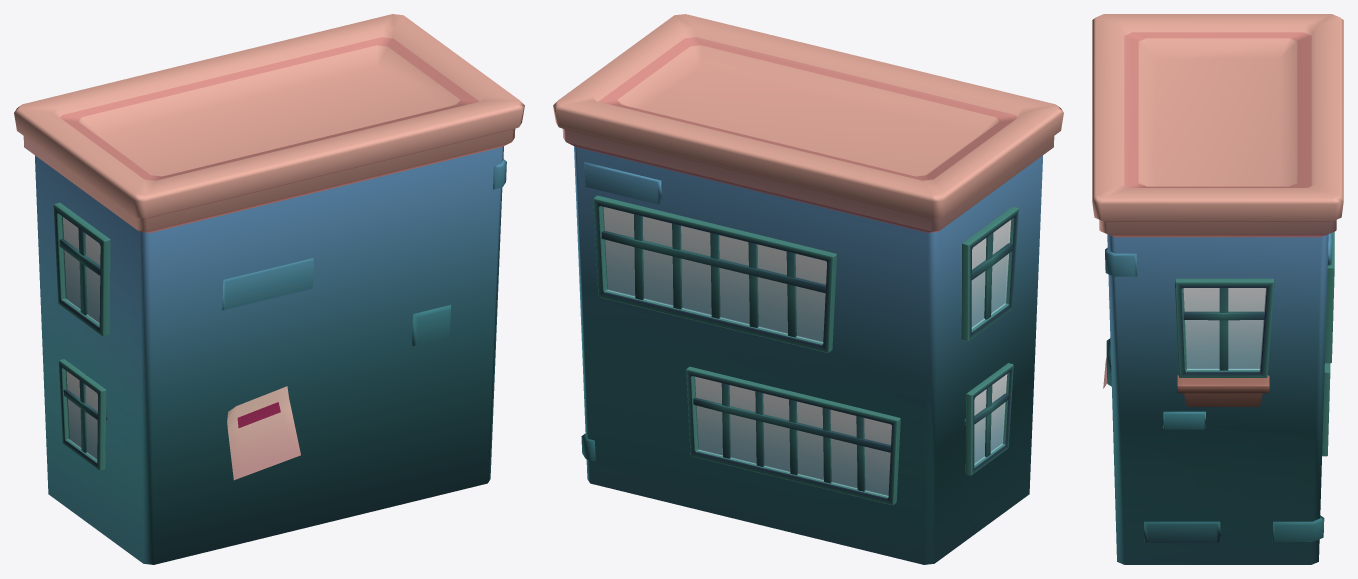
Rendered from SM_House_Blue.fbx.
The picture shows the model from 3 angles, left to right: view 1: azimuth 30°, elevation 25°; view 2: azimuth 150°, elevation 25°; view 3: azimuth 270°, elevation 25°; orthographic projection.
Visible parts, largest first — view 1: SM_House_Blue; view 2: SM_House_Blue; view 3: SM_House_Blue.
Part boxes in pixels (x1=…): SM_House_Blue: x1=14, y1=14, x2=524, y2=564; SM_House_Blue: x1=553, y1=14, x2=1063, y2=564; SM_House_Blue: x1=1092, y1=14, x2=1343, y2=564.
Size of the model in its own units: 1621 by 1499 by 910.
